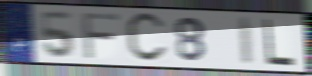5: (38, 10, 76, 60)
8: (174, 16, 209, 63)
C: (125, 11, 170, 65)
F: (80, 11, 122, 60)
I: (238, 16, 255, 67)
L: (263, 18, 296, 68)
